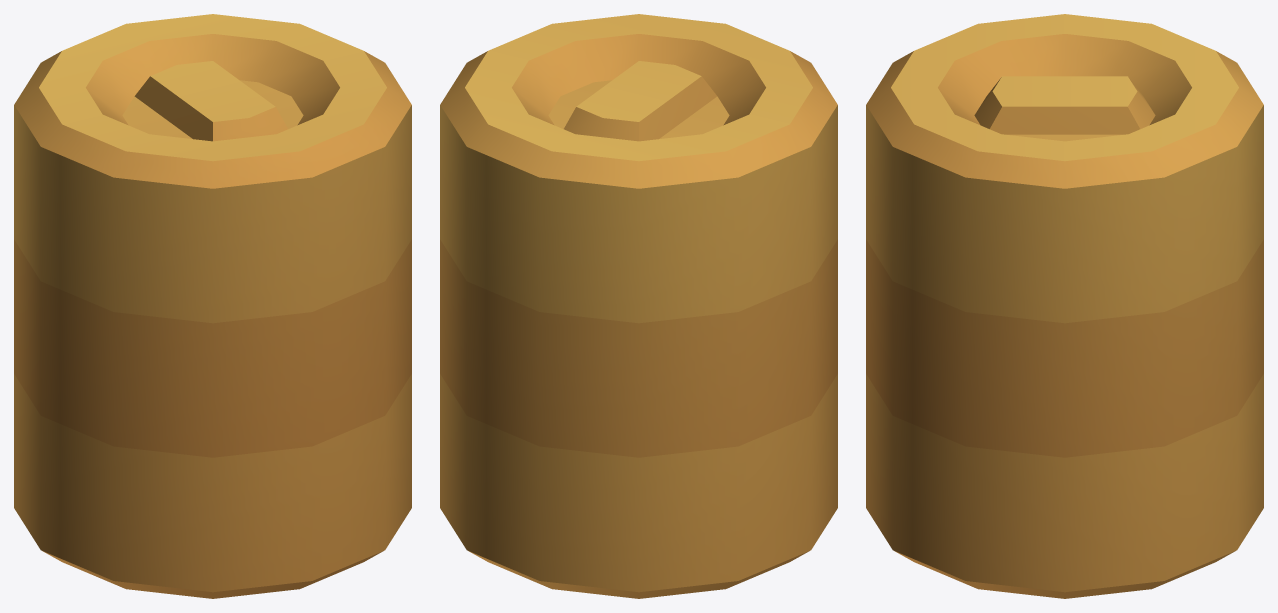
Rendered from Money_Coins_Stack_Small.glb.
3 views of the same model, side by side, from view 1: azimuth 30°, elevation 25°; view 2: azimuth 150°, elevation 25°; view 3: azimuth 270°, elevation 25° (orthographic).
Visible parts, largest first — view 1: Money_Coins_Stack_Small; view 2: Money_Coins_Stack_Small; view 3: Money_Coins_Stack_Small.
Part boxes in pixels (x1,y1,x2,y2): Money_Coins_Stack_Small: [14, 14, 411, 598]; Money_Coins_Stack_Small: [440, 14, 837, 598]; Money_Coins_Stack_Small: [866, 14, 1263, 598].
Size of the model in its own units: 0.247 by 0.3 by 0.247.
Materials: 1 (1 with a texture image).
